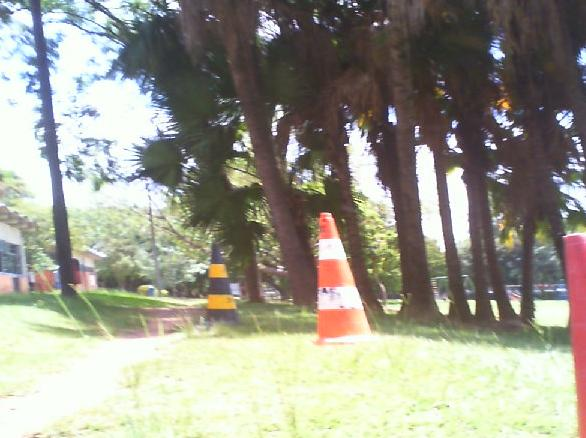0 cone: (313, 212, 379, 344), (563, 232, 586, 438), (203, 240, 245, 329)
